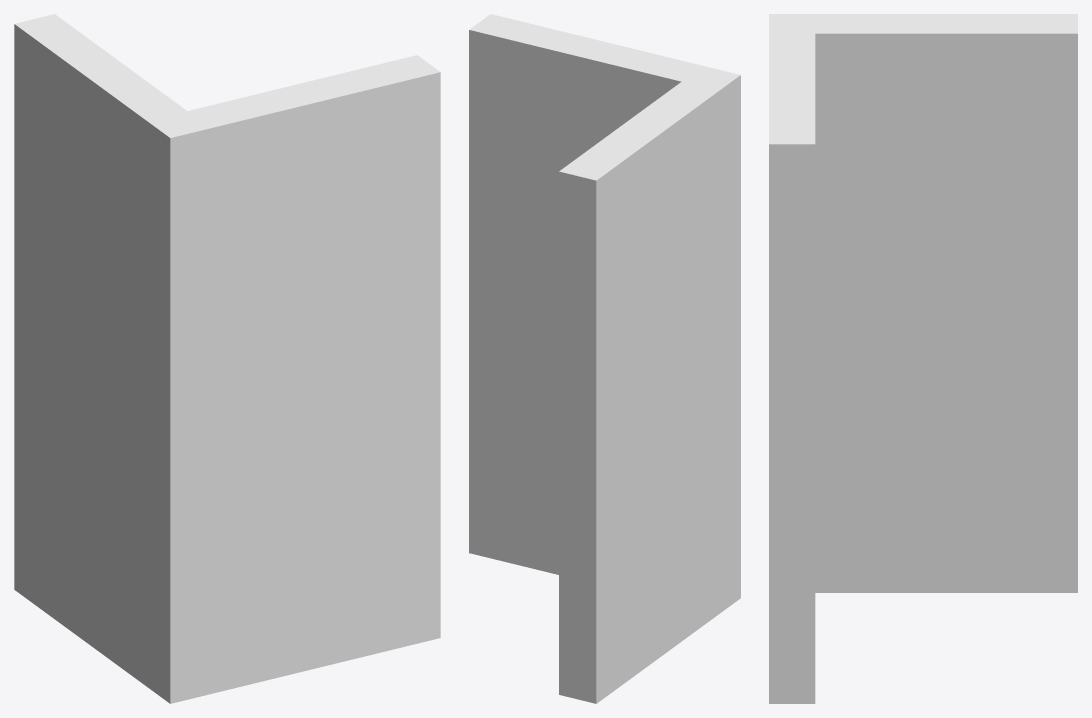
The model's file is WhiteCorner.glb.
3 views of the same model, side by side, from view 1: azimuth 30°, elevation 25°; view 2: azimuth 150°, elevation 25°; view 3: azimuth 270°, elevation 25° (orthographic). The views are drawn at different scales.
Visible parts, largest first — view 1: wall_plain_corner; view 2: wall_plain_corner; view 3: wall_plain_corner.
Boxes of the visible parts, <box> form: wall_plain_corner: <box>14,14,440,703</box>; wall_plain_corner: <box>469,14,740,703</box>; wall_plain_corner: <box>769,14,1077,703</box>.
Size of what is drawn, in the model's own units: 2 by 4 by 2.
1 material, 1 textured.
